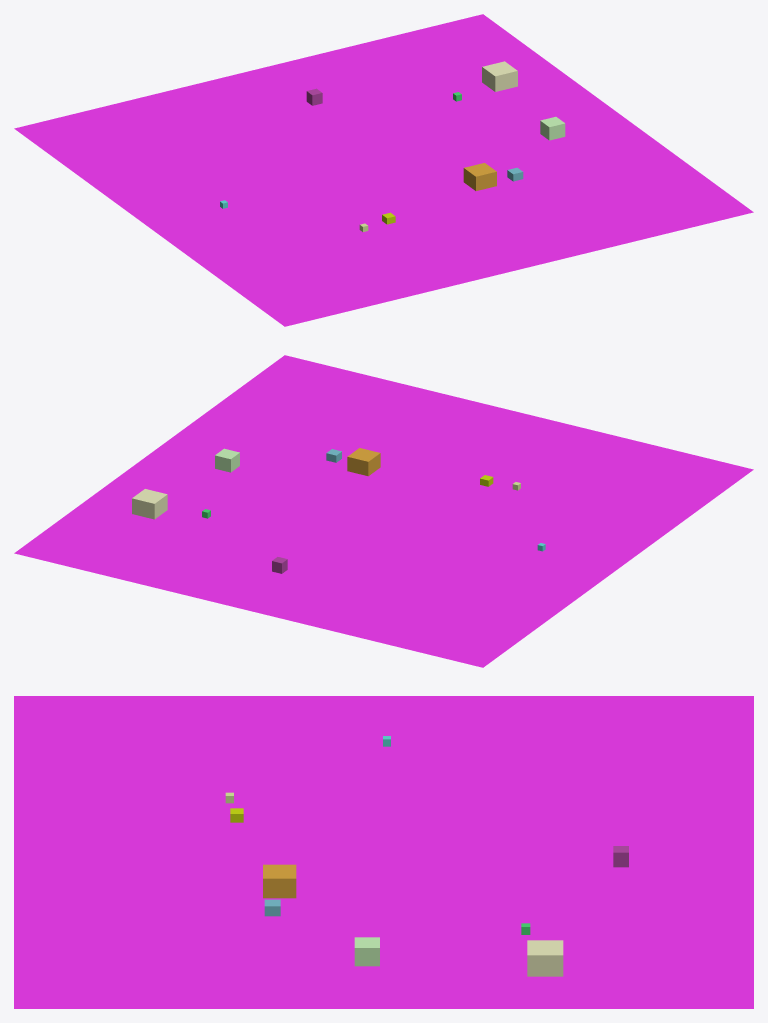
3 renders of one model, top to bottom at view 1: azimuth 30°, elevation 25°; view 2: azimuth 150°, elevation 25°; view 3: azimuth 270°, elevation 25°, orthographic. The views are drawn at different scales.
Visible parts, largest first — view 1: Chunk_1_-1; view 2: Chunk_1_-1; view 3: Chunk_1_-1.
Boxes of the visible parts, bbox=[...] form: Chunk_1_-1: bbox=[14, 14, 753, 326]; Chunk_1_-1: bbox=[14, 355, 753, 667]; Chunk_1_-1: bbox=[14, 696, 753, 1008].
Bounding box in the file's own units: 1500 × 72.52 × 1500.
